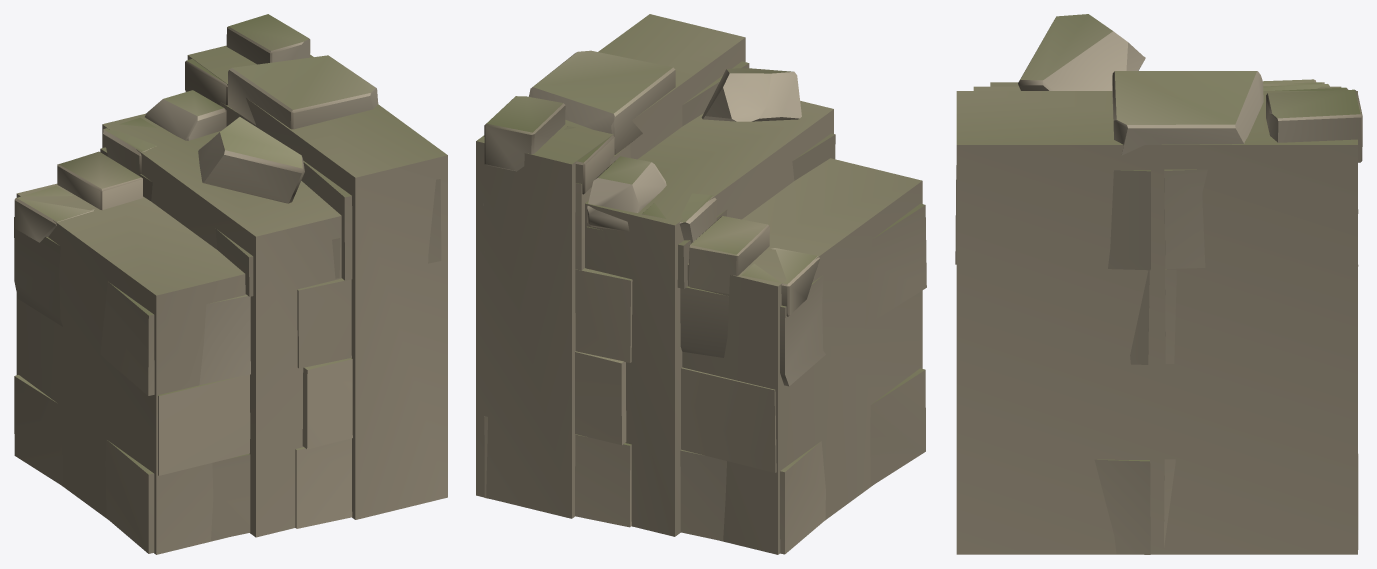
The model's file is theatre_seat_broken_1.glb.
The picture shows the model from 3 angles, left to right: view 1: azimuth 30°, elevation 25°; view 2: azimuth 150°, elevation 25°; view 3: azimuth 270°, elevation 25°; orthographic projection. The views are drawn at different scales.
Visible parts, largest first — view 1: theatre_seat_broken_1_far, theatre_seat_broken_1; view 2: theatre_seat_broken_1_far, theatre_seat_broken_1; view 3: theatre_seat_broken_1_far, theatre_seat_broken_1.
Part boxes in pixels (x1,y1,x2,y2): theatre_seat_broken_1_far: [16, 45, 447, 554]; theatre_seat_broken_1: [14, 14, 441, 553]; theatre_seat_broken_1_far: [476, 14, 922, 554]; theatre_seat_broken_1: [483, 50, 926, 554]; theatre_seat_broken_1_far: [956, 82, 1357, 554]; theatre_seat_broken_1: [955, 14, 1362, 554].
Bounding box in the file's own units: 8.68 × 10.64 × 8.92.
